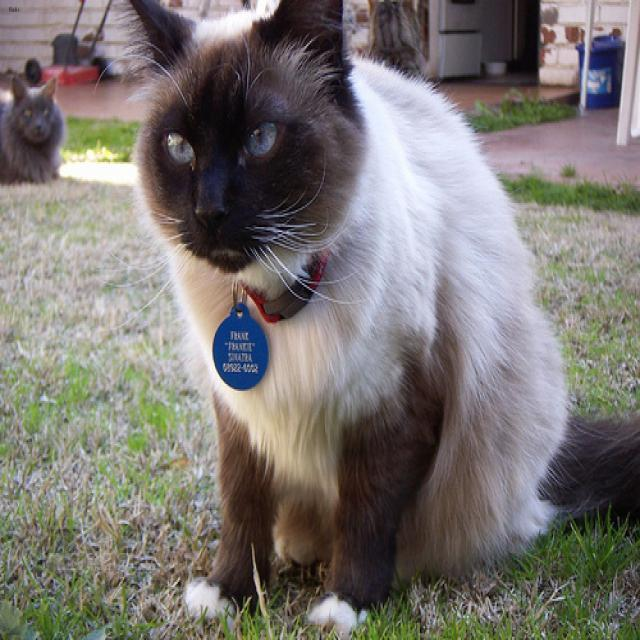Birman: (114, 0, 385, 289)
